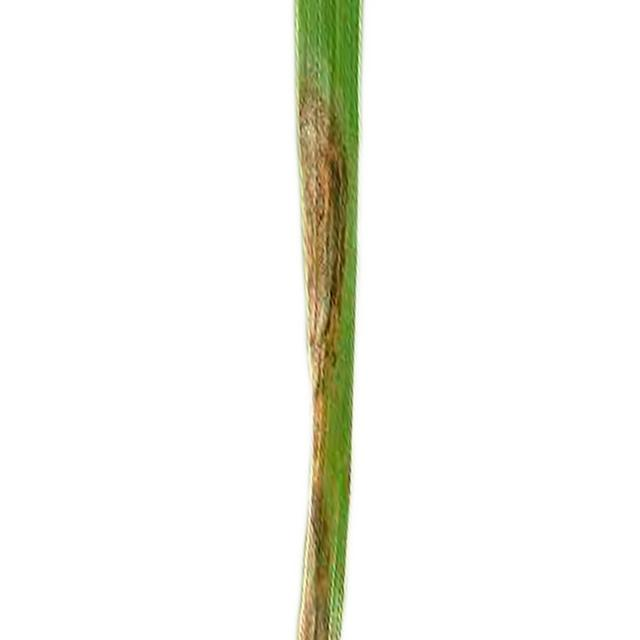Leaf scald: (175, 0, 444, 640)
